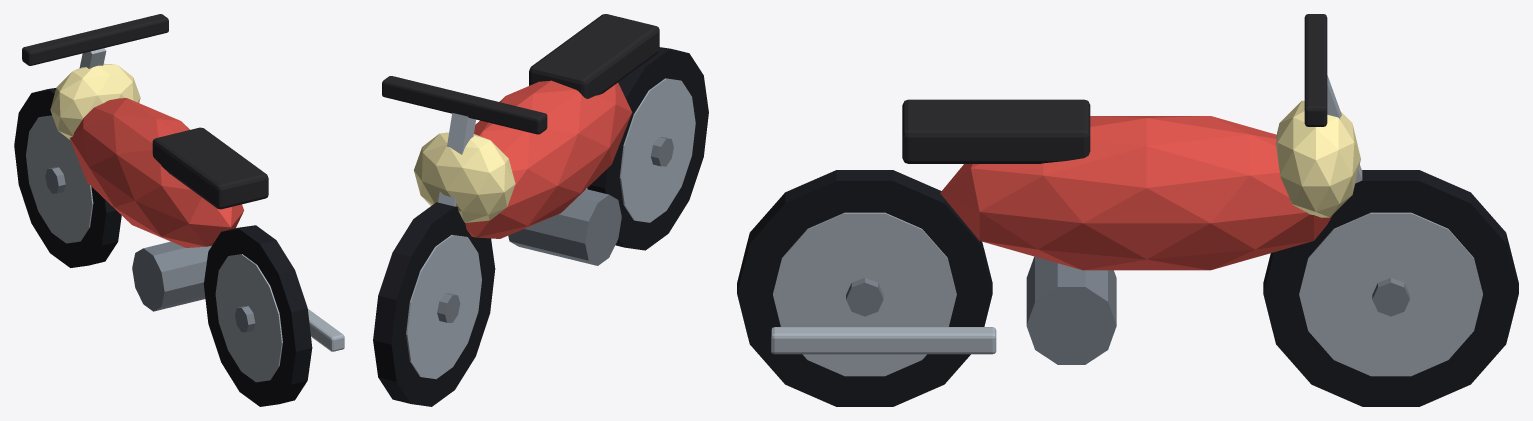
The model's file is Motor_Bike.fbx.
3 renders of one model, left to right at view 1: azimuth 30°, elevation 25°; view 2: azimuth 150°, elevation 25°; view 3: azimuth 270°, elevation 25°, orthographic. The views are drawn at different scales.
Visible parts, largest first — view 1: Bike; view 2: Bike; view 3: Bike.
Boxes of the visible parts, <box> form: Bike: <box>14,14,344,406</box>; Bike: <box>373,14,708,406</box>; Bike: <box>737,14,1518,406</box>.
Size of the model in its own units: 0.6 by 1 by 2.08.
